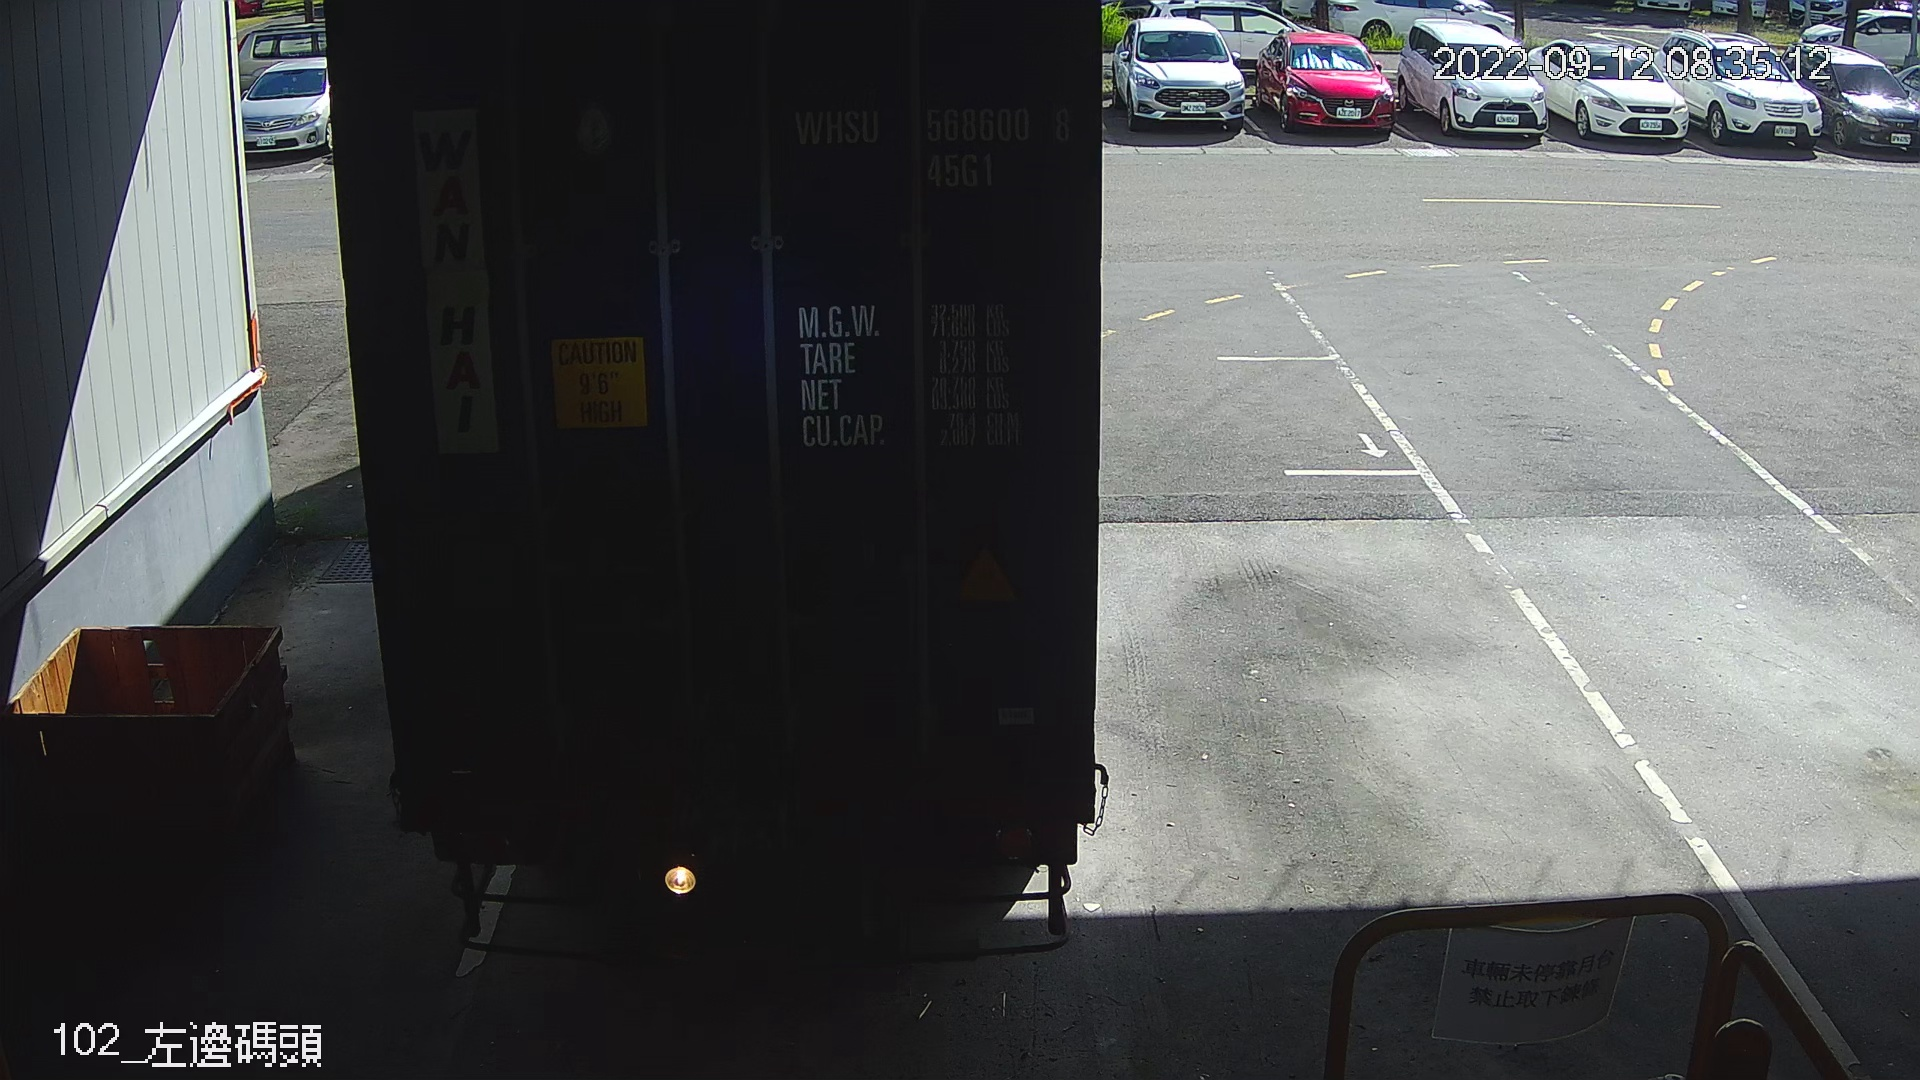container: (781, 91, 1085, 199)
